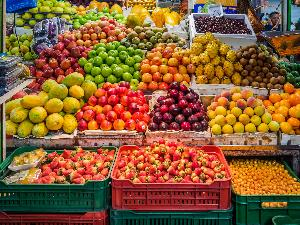apple: (80, 44, 144, 82), (32, 42, 86, 84), (140, 45, 192, 88), (62, 14, 124, 44), (68, 10, 128, 27)
kiwi: (236, 44, 286, 92)
mango: (0, 79, 90, 143)
peach: (77, 80, 148, 130)
pear: (1, 28, 37, 60)
plum: (209, 90, 274, 136), (151, 85, 203, 131), (270, 85, 300, 131)
strawberry: (114, 142, 234, 190), (43, 140, 114, 189)
